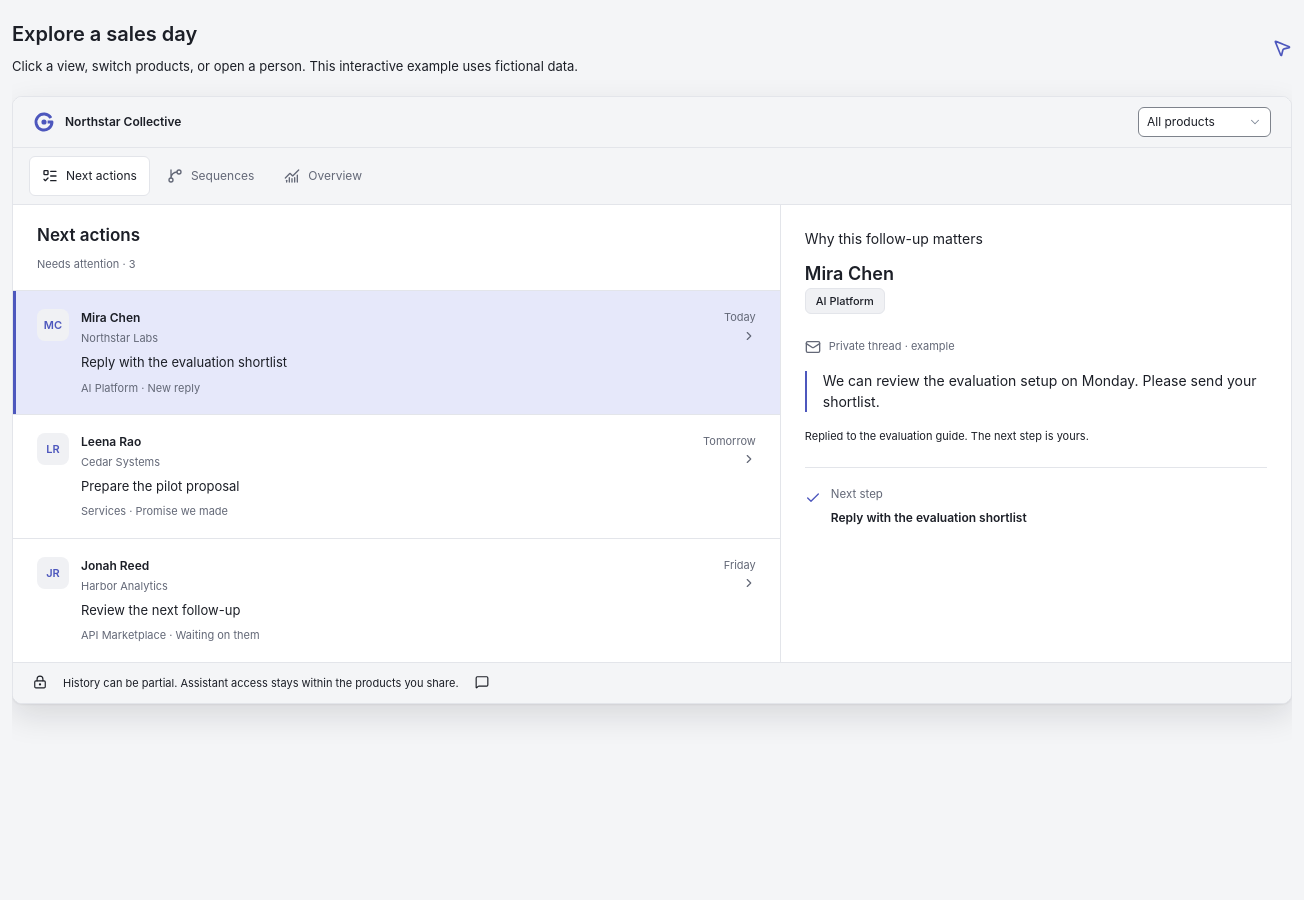
the tour explains its fictional data and opens the selected person's context
Check: the text "Click a view, switch products, or open a person. This interactive example uses fictional data." is shown, box [12,58,578,74]
Check: the text "We can review the evaluation setup on Monday. Please send your shortlist." is shown, box [805,371,1267,412]
Step 1. Click the button "Leena Rao" → (53, 449), box [13,414,780,538]
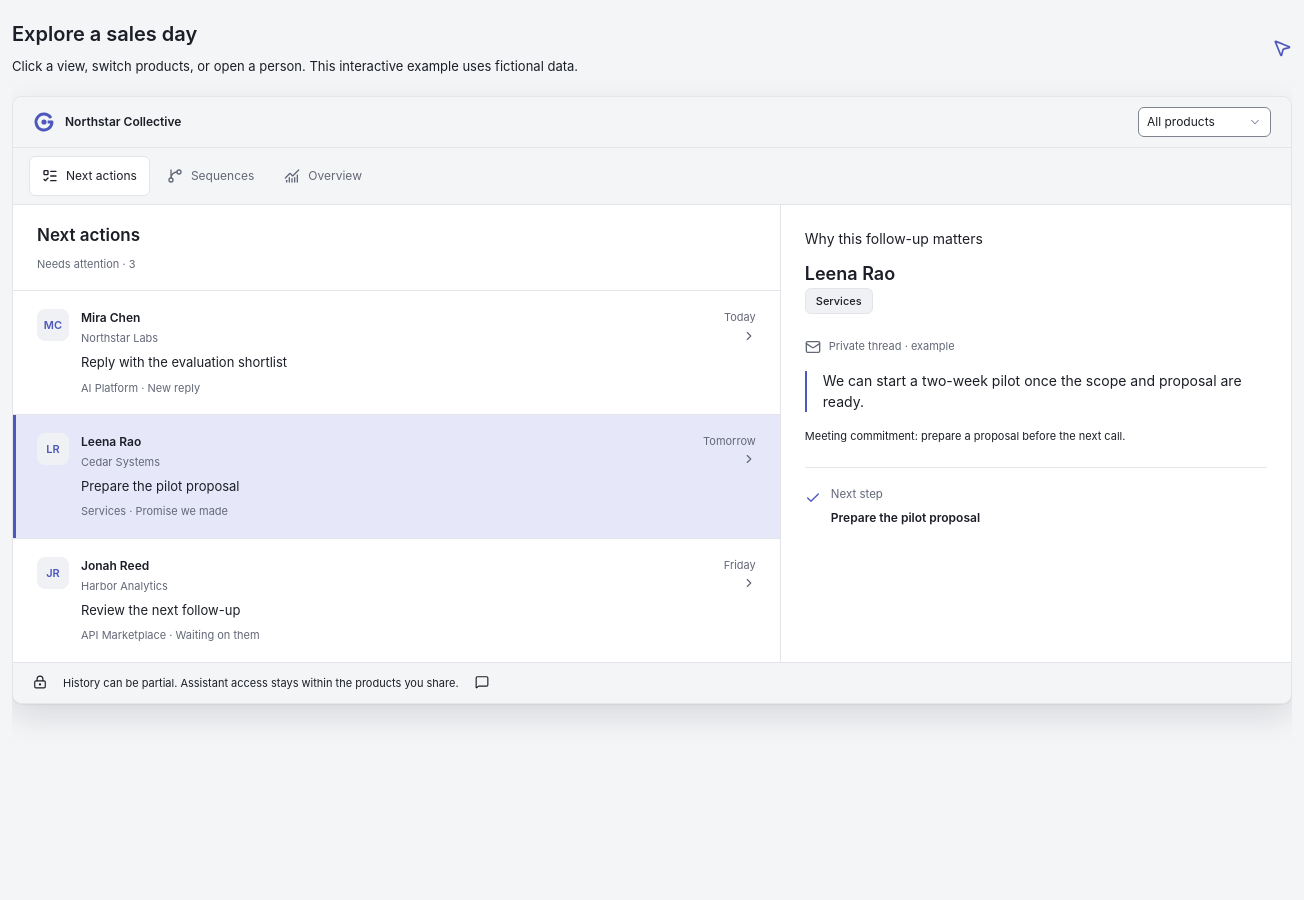
Check: the text "We can start a two-week pilot once the scope and proposal are ready." is shown, box [805,371,1267,412]
Check: the text "We can review the evaluation setup on Monday. Please send your shortlist." is gone
